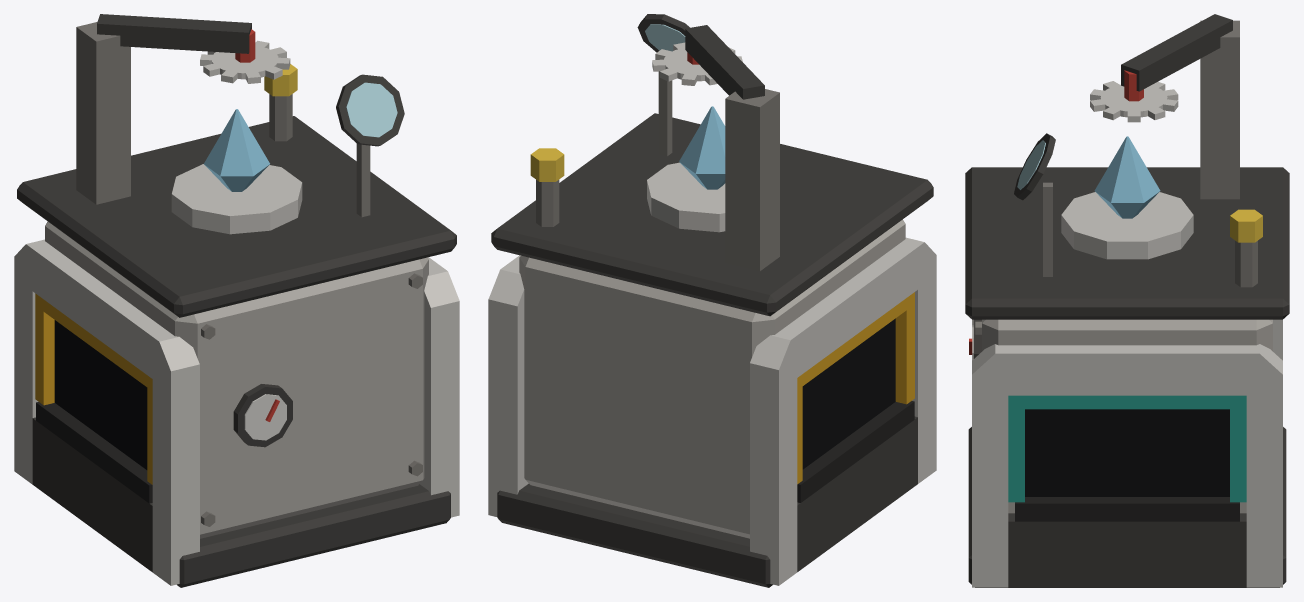
File: gemcutter.fbx
The picture shows the model from 3 angles, left to right: view 1: azimuth 30°, elevation 25°; view 2: azimuth 150°, elevation 25°; view 3: azimuth 270°, elevation 25°; orthographic projection.
Parts seen in each view (by area): view 1: gemcutter; view 2: gemcutter; view 3: gemcutter.
Boxes of the visible parts, x1,y1,x2,y2 form: gemcutter: [14, 14, 459, 587]; gemcutter: [488, 14, 936, 587]; gemcutter: [965, 14, 1289, 587].
Bounding box in the file's own units: 3 × 4.63 × 2.94.
